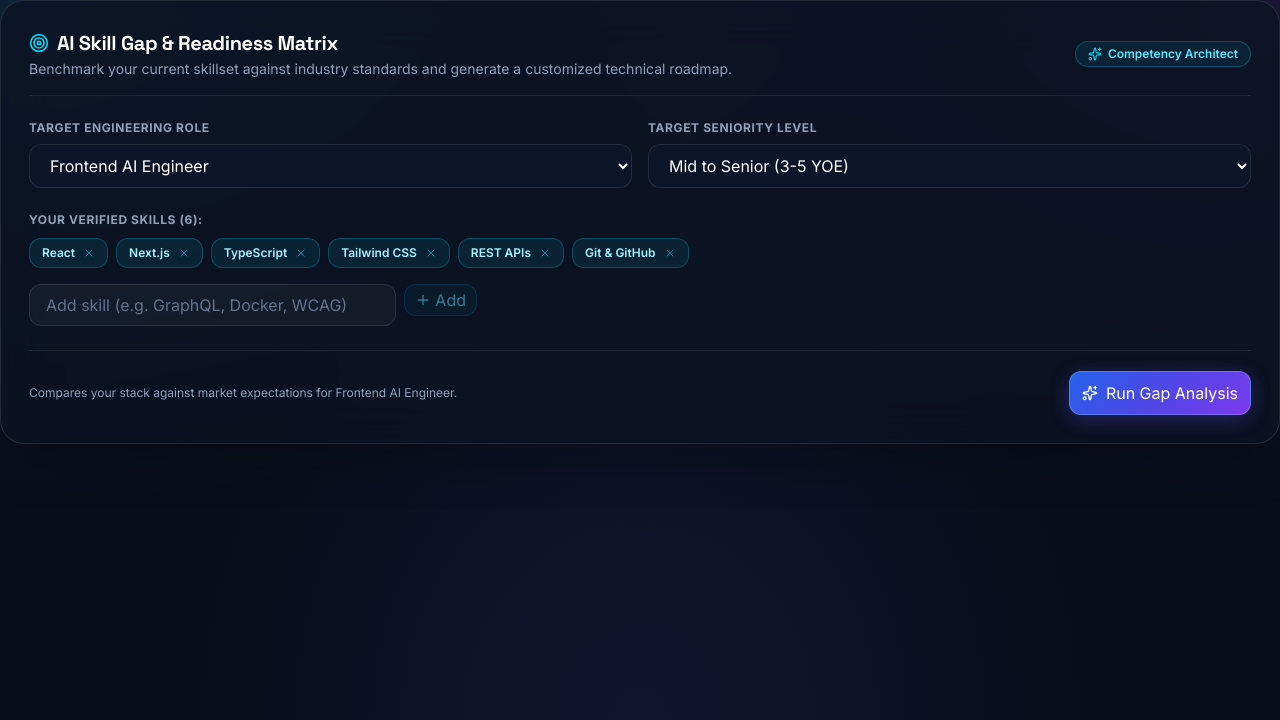
Test: SkillGapAnalyzer Component › submits skill gap analysis and renders match score and 8-week roadmap
Click the button "Run Gap Analysis".
click(1160, 393)  # box [1069,371,1251,415]
(page scrolled)
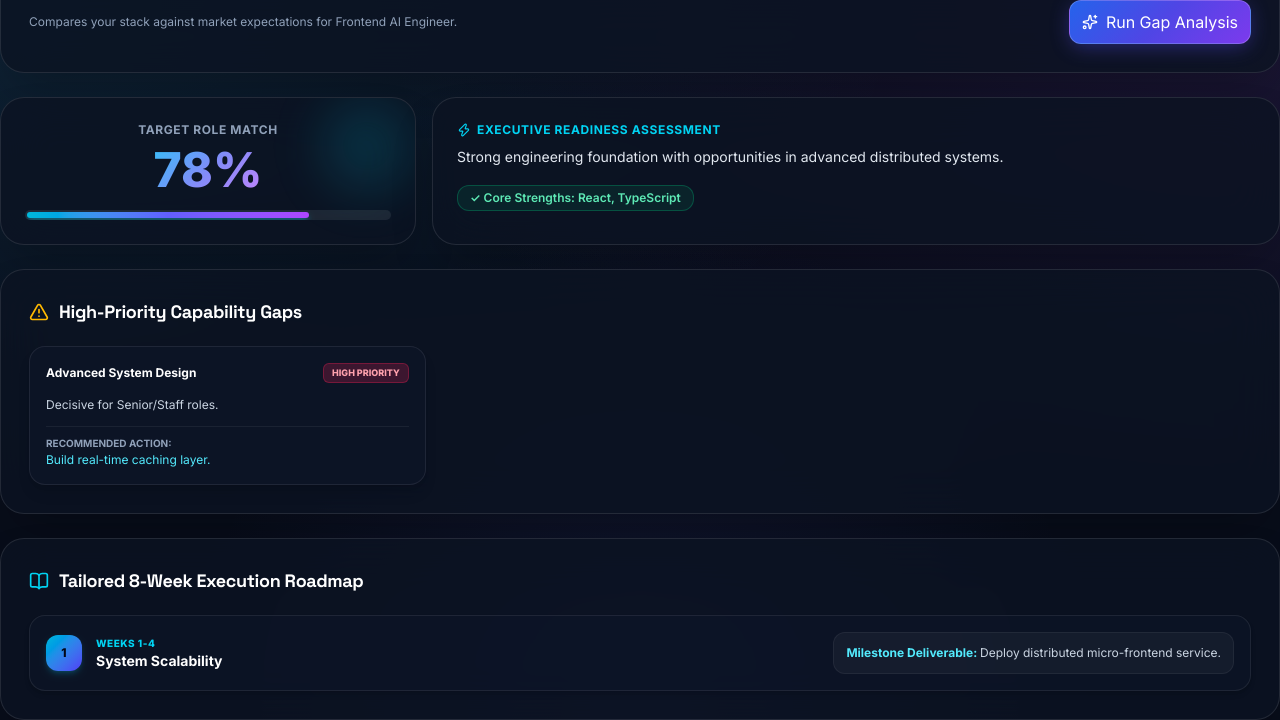
Expected: the text "78%" is shown, [154,146,262,194]
Expected: the text "Executive Readiness Assessment" is shown, [457,122,721,137]
Expected: the text "Advanced System Design" is shown, [46,365,196,381]
